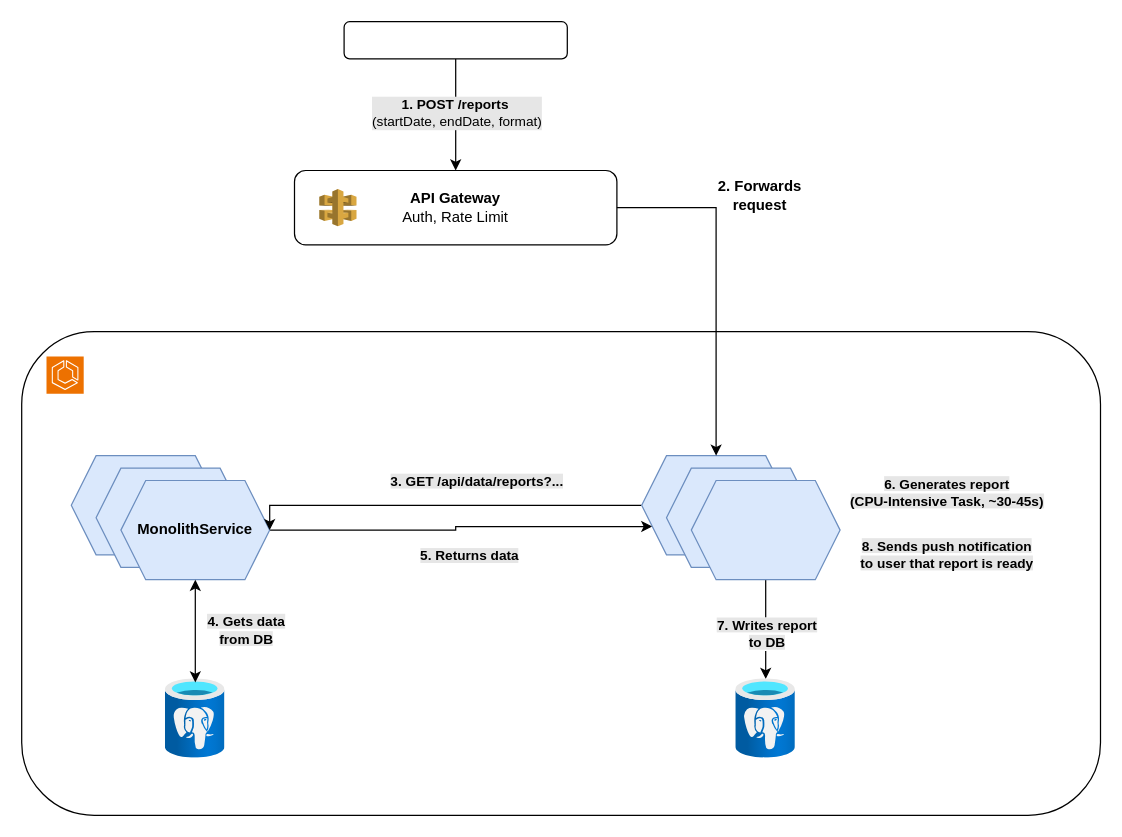
Image size: 1122x837. Some labels were removed from this diagram. Each missing label, with the centre of its shape:
ReportService: (765,529)
User: (455,39)
